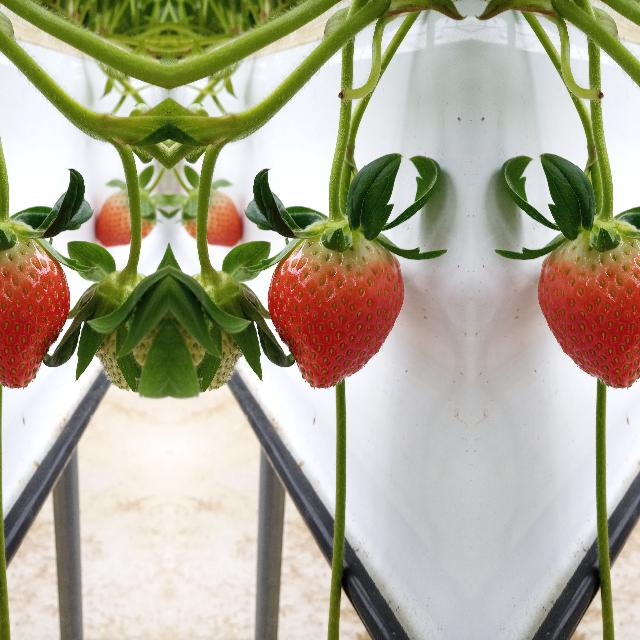Health_100: (266, 229, 404, 389), (537, 229, 640, 389), (0, 229, 70, 389), (180, 176, 250, 248), (86, 176, 156, 248)
Health_25: (189, 276, 261, 398), (75, 276, 147, 398)
